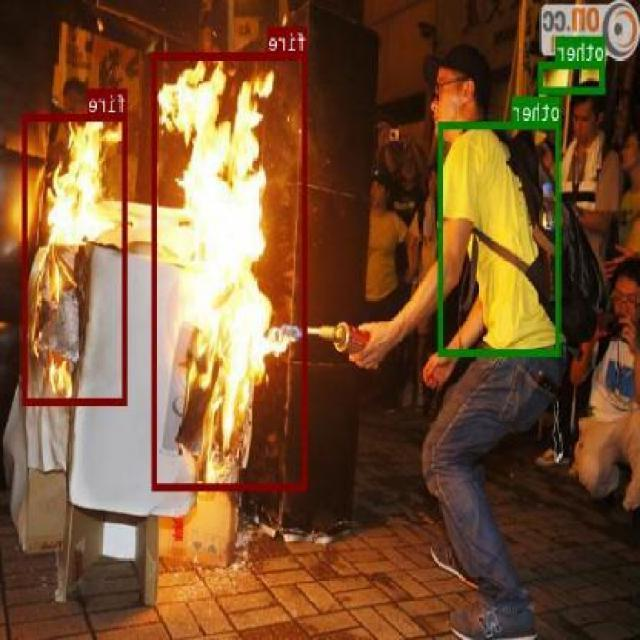Fire: (152, 52, 308, 490), (23, 113, 128, 404)
